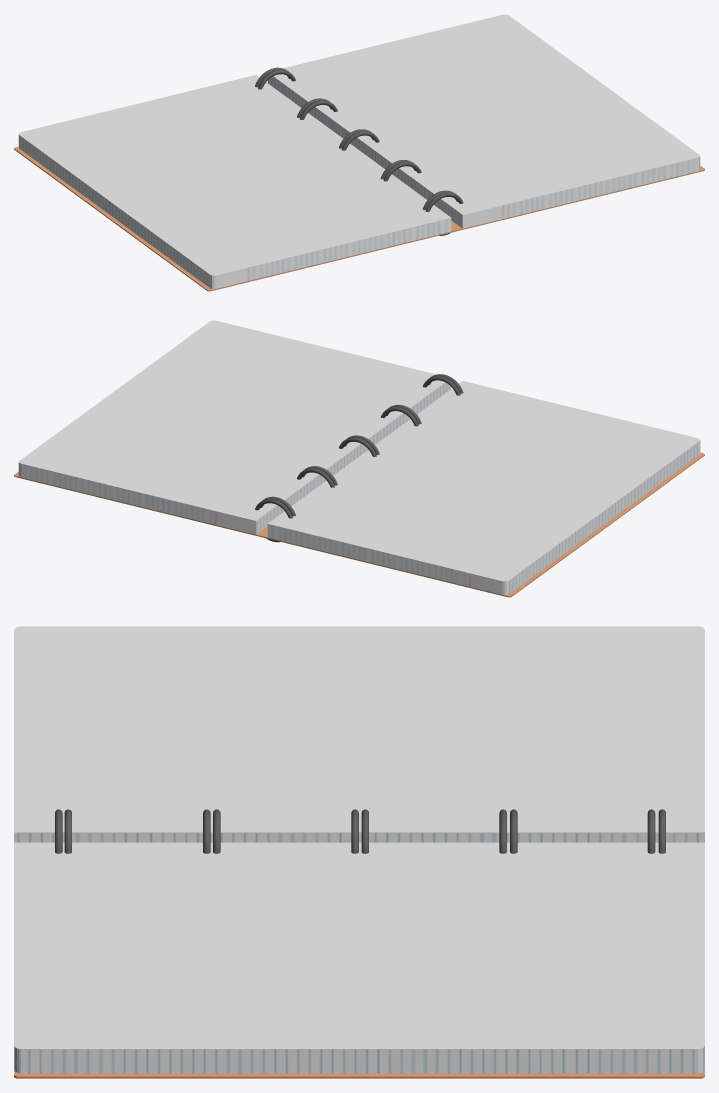
File: Cahier_anneau.fbx
3 renders of one model, top to bottom at view 1: azimuth 30°, elevation 25°; view 2: azimuth 150°, elevation 25°; view 3: azimuth 270°, elevation 25°, orthographic. The views are drawn at different scales.
Visible parts, largest first — view 1: page_left, Page_Right, Book, Ring_down, Ring_up; view 2: page_left, Page_Right, Book, Ring_up, Ring_down; view 3: Page_Right, page_left, Book, Ring_down, Ring_up.
Boxes of the visible parts, box(x1,y1,x2,y2) form: page_left: box(19, 75, 450, 275); Page_Right: box(273, 14, 699, 214); Book: box(14, 76, 704, 291); Ring_down: box(258, 70, 463, 235); Ring_up: box(255, 67, 457, 209); page_left: box(268, 381, 699, 581); Page_Right: box(19, 320, 444, 520); Book: box(14, 320, 704, 597); Ring_up: box(255, 376, 460, 542); Ring_down: box(260, 374, 463, 516); Page_Right: box(14, 842, 704, 1048); page_left: box(14, 626, 704, 832); Book: box(14, 832, 704, 1078); Ring_down: box(55, 809, 655, 853); Ring_up: box(64, 809, 665, 853).
Size of the model in its own units: 87.33 by 7.05 by 59.4.
4 materials, 1 textured.
